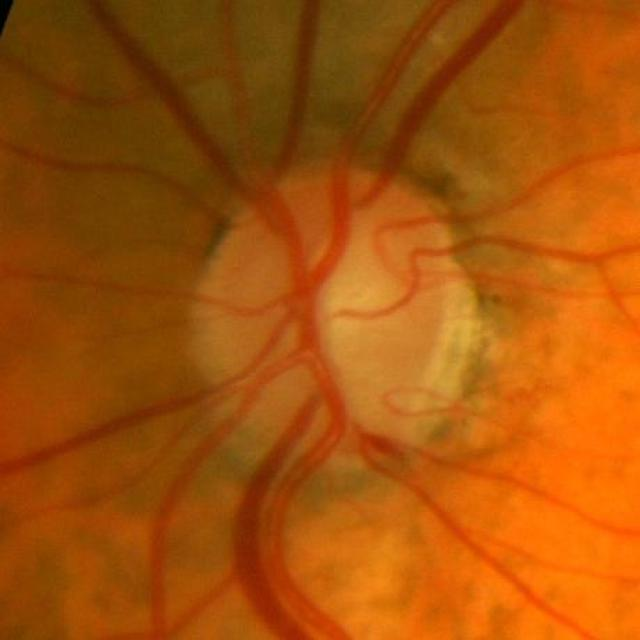OC: (316, 259, 402, 342)
OD: (188, 162, 462, 442)
